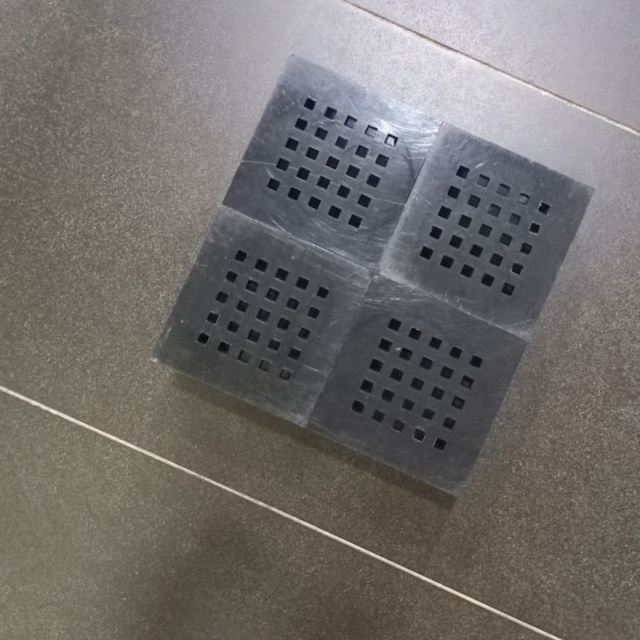pallet: (144, 48, 603, 508)
